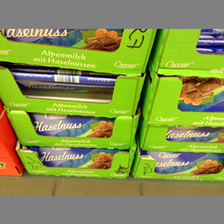chocolate: (12, 70, 115, 94), (28, 114, 116, 138), (28, 147, 123, 169), (143, 151, 224, 176), (174, 77, 224, 113)
